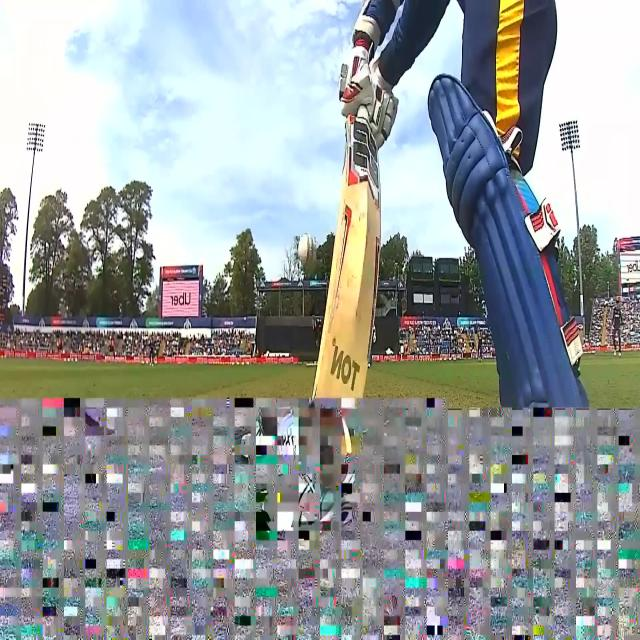ball: (296, 228, 319, 266)
